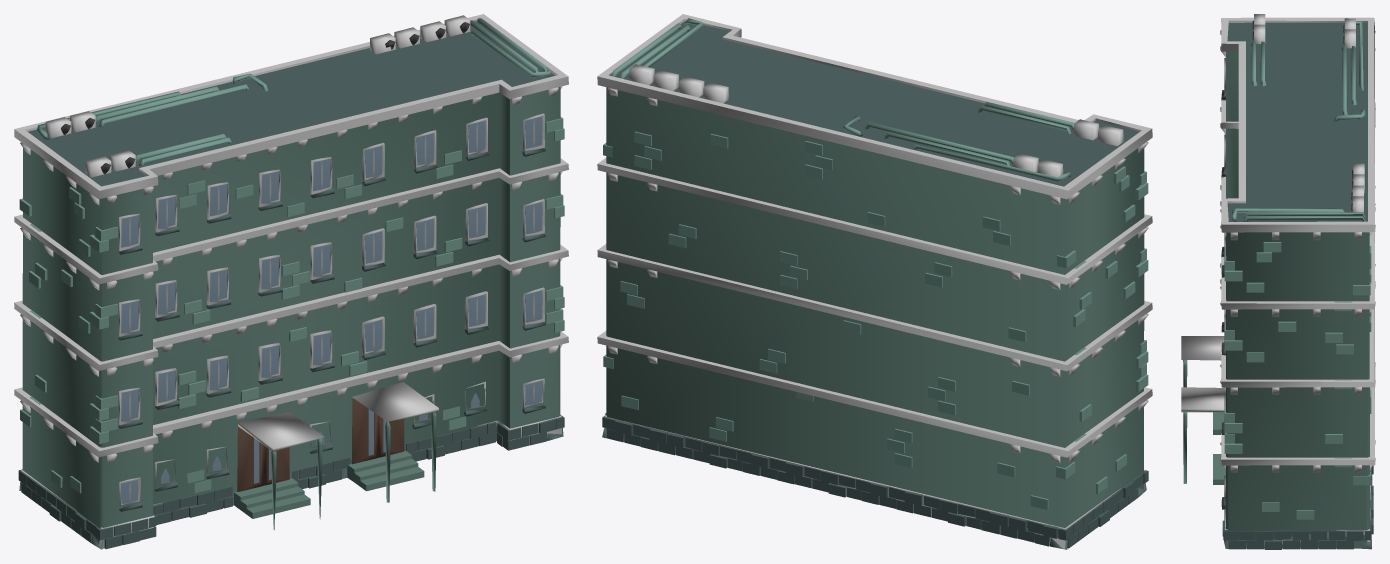
File: skyscraper-b.low.glb
3 renders of one model, left to right at view 1: azimuth 30°, elevation 25°; view 2: azimuth 150°, elevation 25°; view 3: azimuth 270°, elevation 25°, orthographic. The views are drawn at different scales.
Parts seen in each view (by area): view 1: 4Story_Wide_2Doors_Mat; view 2: 4Story_Wide_2Doors_Mat; view 3: 4Story_Wide_2Doors_Mat.
Boxes of the visible parts, x1,y1,x2,y2 form: 4Story_Wide_2Doors_Mat: (14, 14, 568, 549); 4Story_Wide_2Doors_Mat: (597, 14, 1152, 549); 4Story_Wide_2Doors_Mat: (1181, 14, 1375, 549).
Size of the model in its own units: 6.84 by 5.15 by 2.7.
